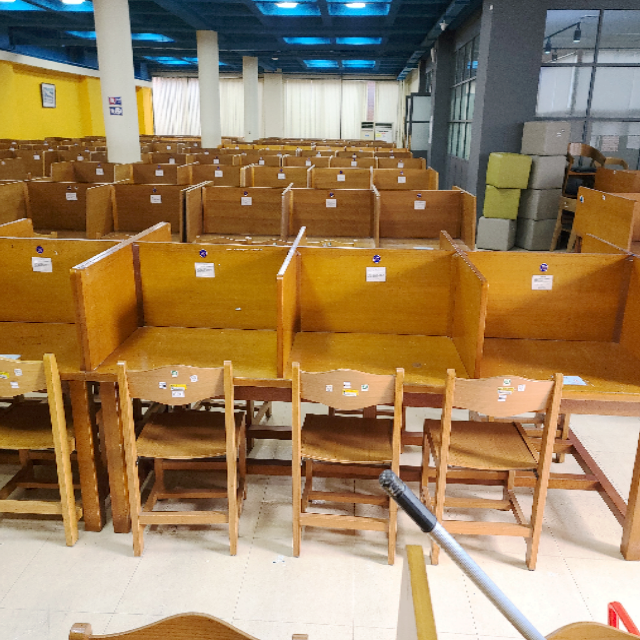empty: (93, 233, 274, 448), (281, 243, 463, 452), (476, 247, 635, 464)
